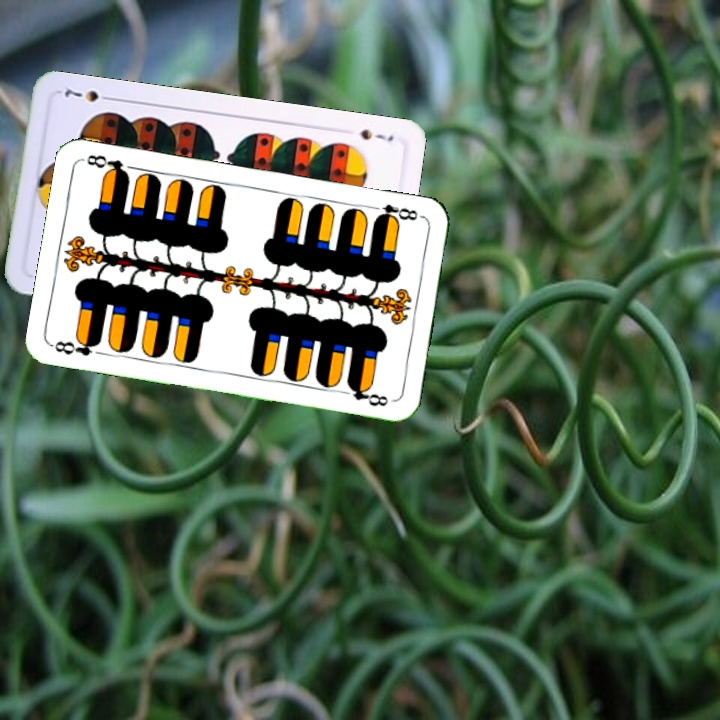E8: (366, 200, 420, 227), (49, 333, 104, 359)
S7: (356, 125, 396, 144)
